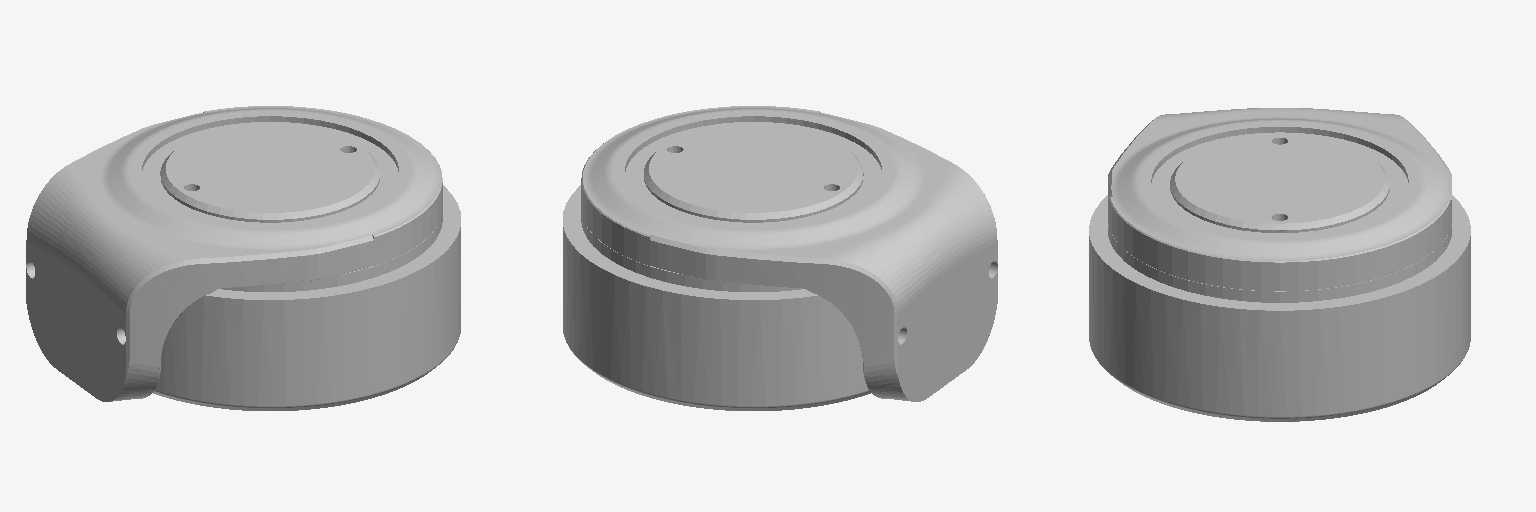
Rendered from hip.obj.
3 views of the same model, side by side, from view 1: azimuth 30°, elevation 25°; view 2: azimuth 150°, elevation 25°; view 3: azimuth 270°, elevation 25° (orthographic).
Visible parts, largest first — view 1: obj1; view 2: obj1; view 3: obj1.
Boxes of the visible parts, <box> form: obj1: <box>26,106,460,410</box>; obj1: <box>563,106,997,410</box>; obj1: <box>1089,108,1470,421</box>.
Bounding box in the file's own units: 0.1 × 0.0445 × 0.092.